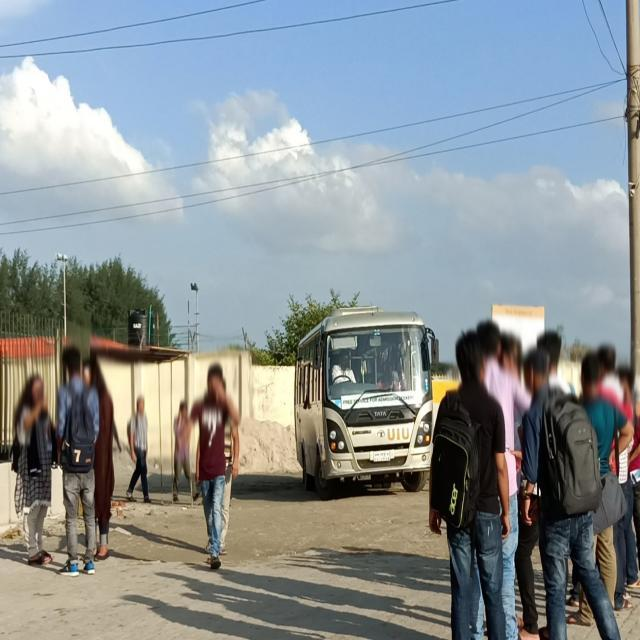bus: (293, 306, 440, 502)
